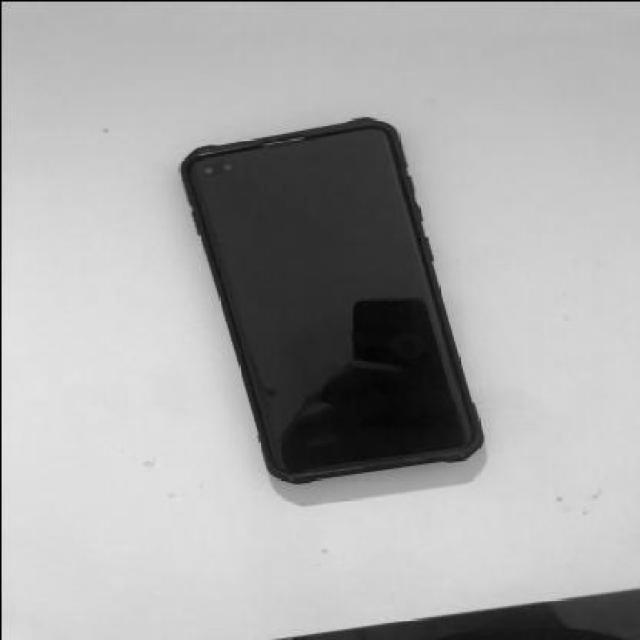fake: (178, 110, 478, 484)
